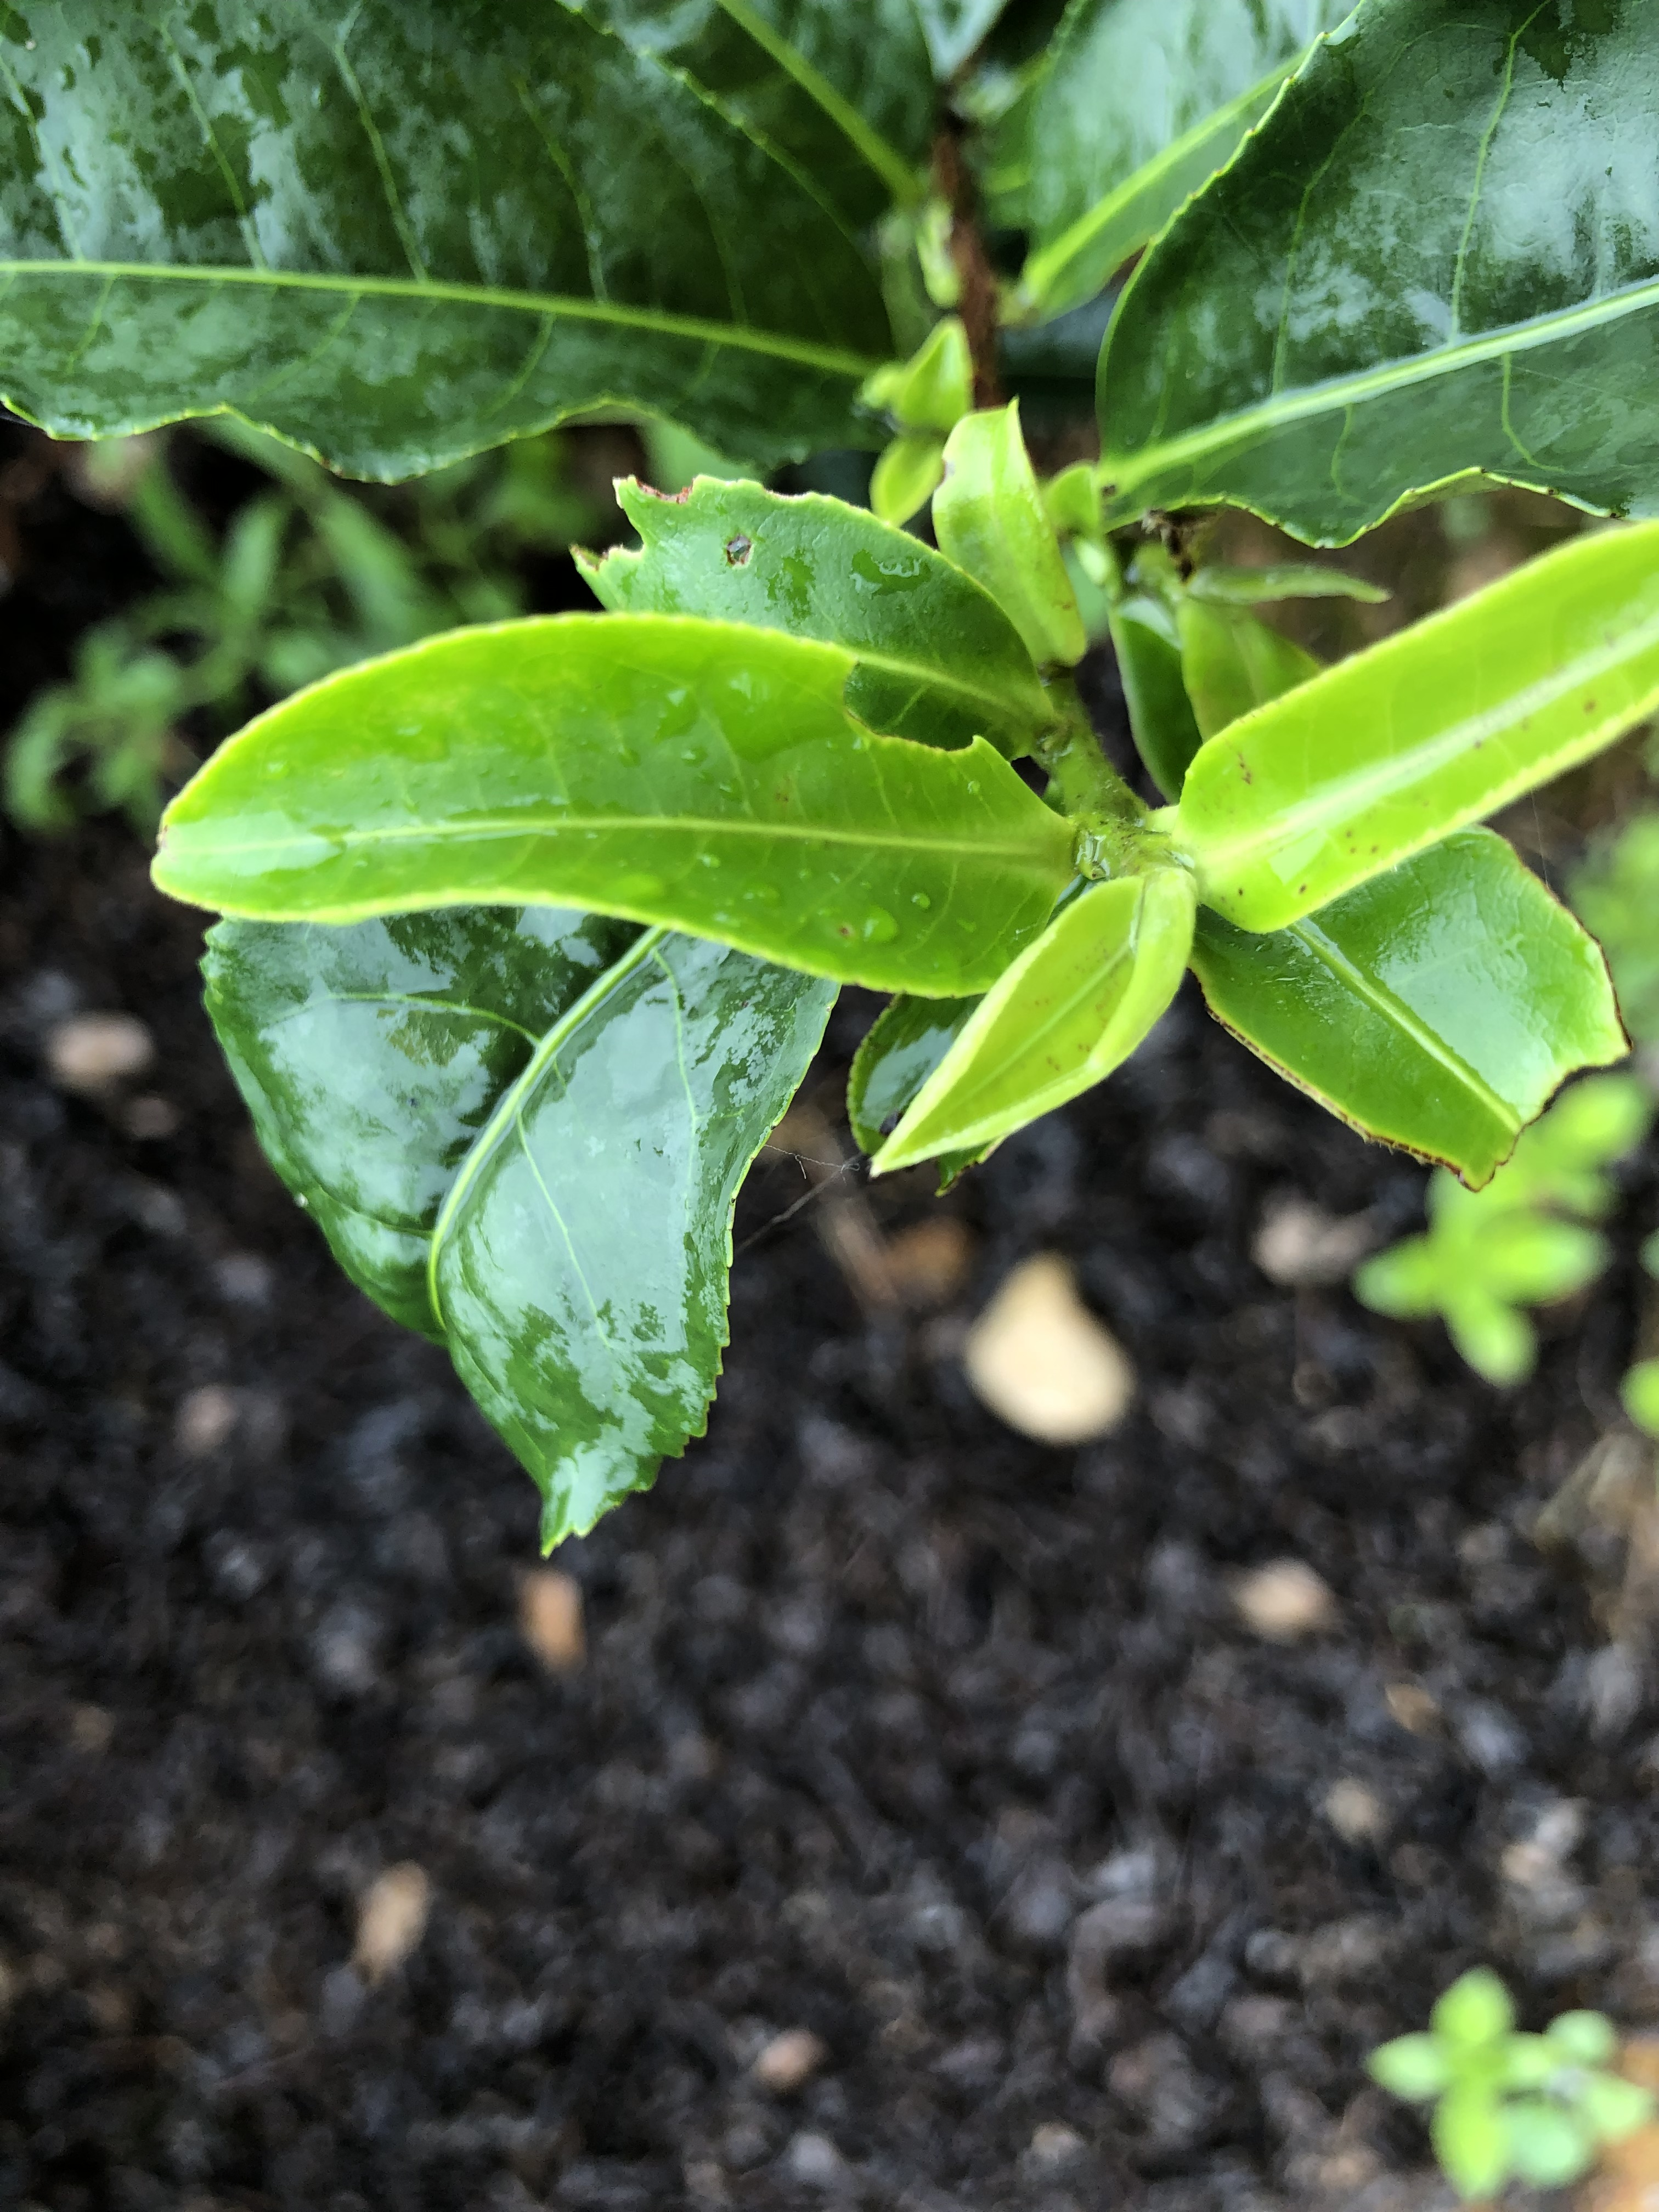fungi_early: (1169, 528, 1654, 954), (868, 881, 1185, 1190)
other: (427, 909, 781, 1555)
